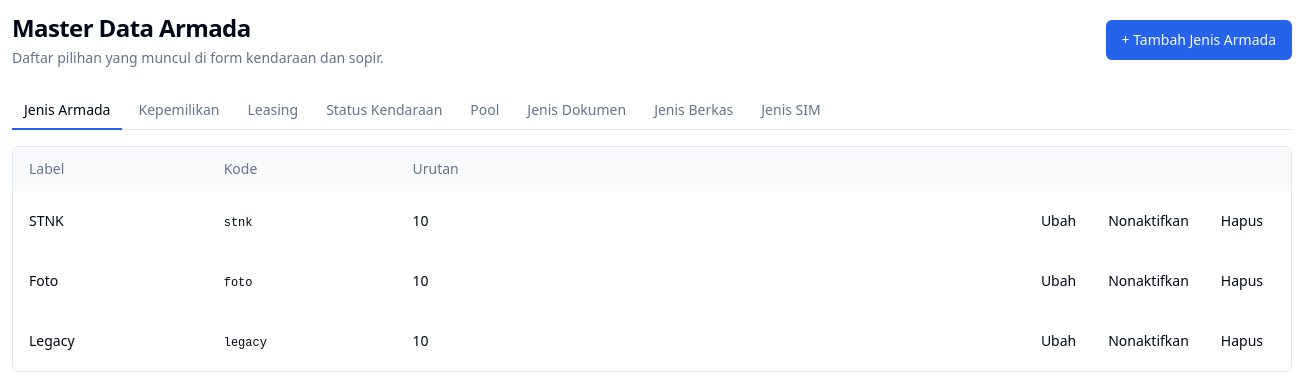
FleetMasterDataPage › renders a tick for a required row and a dash otherwise
Click the tab "Jenis Berkas".
click(694, 111)  # box [642,92,745,130]
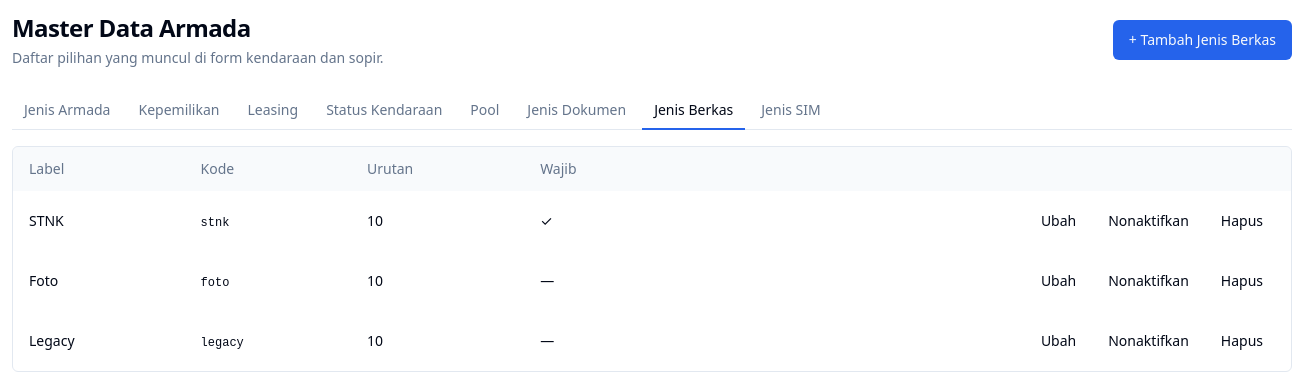
Expected: the cell "✓" is shown, [524,191,676,251]
Expected: the 1st cell "—" is shown, [524,251,676,311]
Expected: the 2nd cell "—" is shown, [524,311,676,371]
